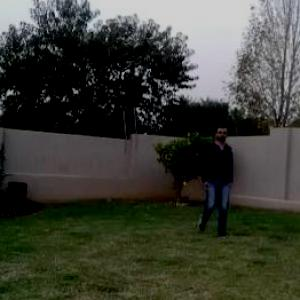follow: (199, 122, 237, 240)
